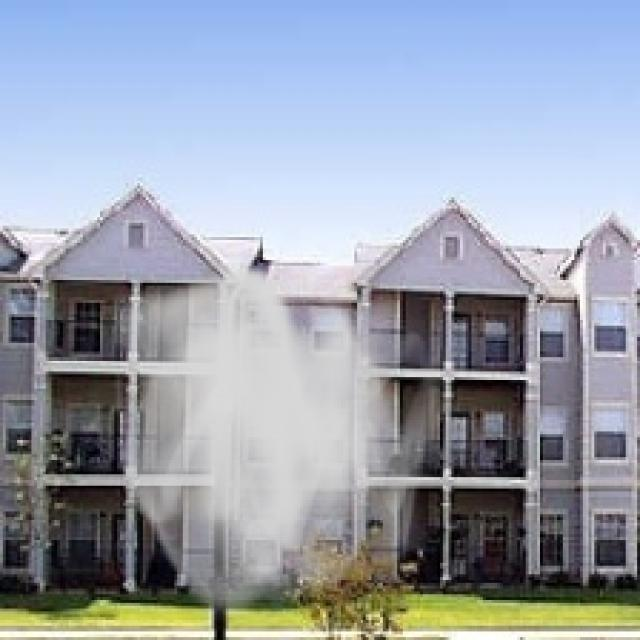Smoke: (102, 260, 454, 626)
